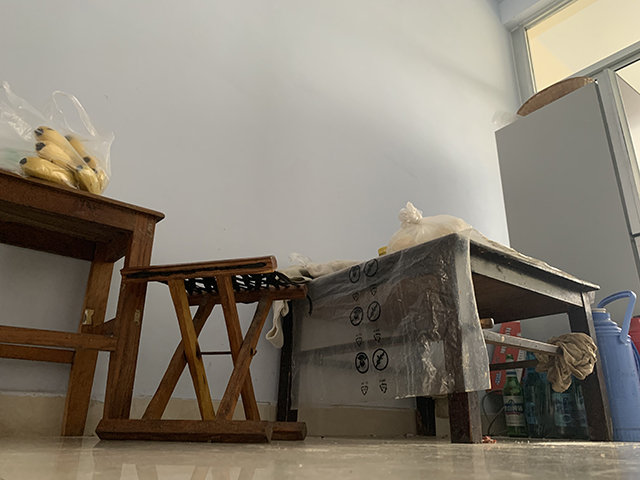stool: (94, 254, 309, 444)
table: (275, 230, 614, 444), (1, 168, 166, 438)
